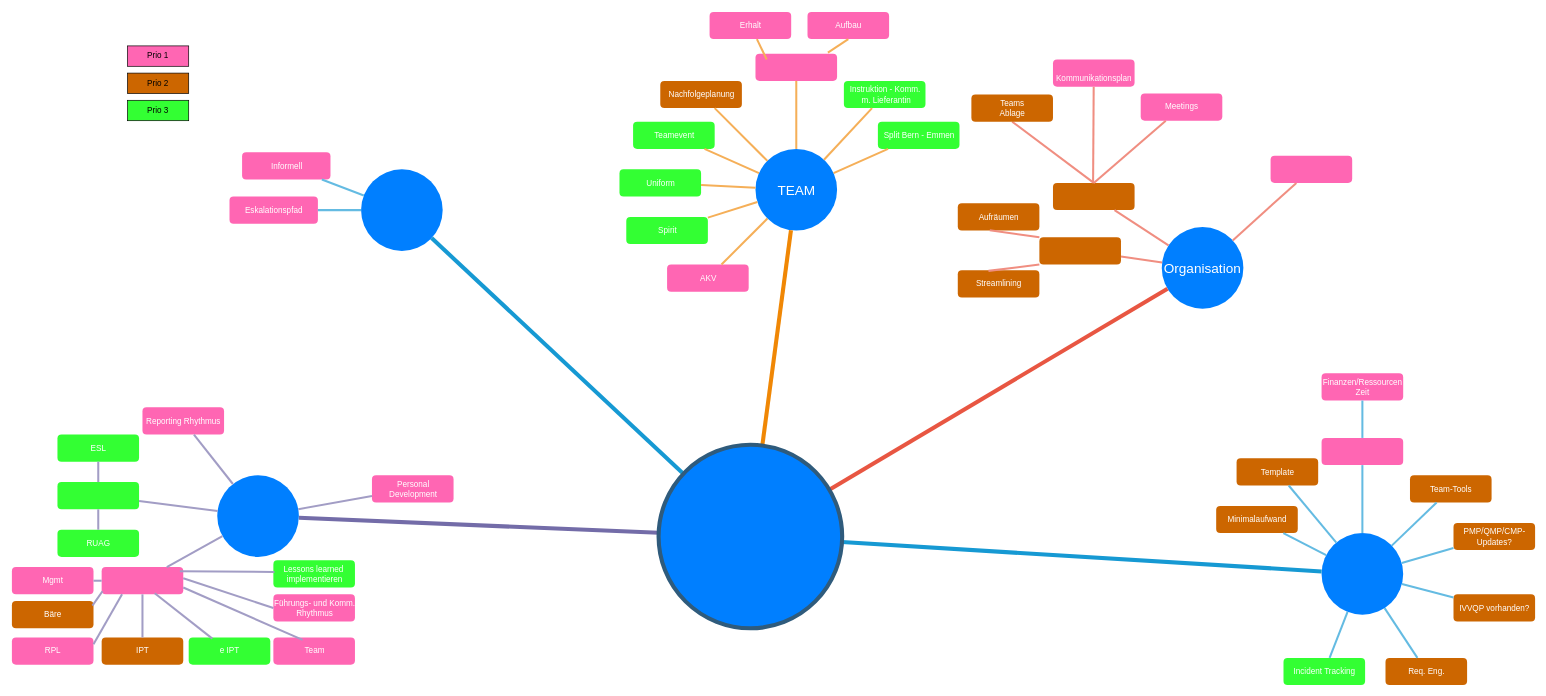
Some shapes in this 1546 by 696 pixel diagram are drawn without their labels. Here are the shapes that lost their labels. From the top down, the centre of each, then its label:
At [796,67]: "Know-How".
At [1311,169]: "Projekt Organisation".
At [401,210]: "Kommun- ikation".
At [1093,196]: "Übersicht".
At [1080,250]: "Ablage".
At [1362,451]: "PL-Tools".
At [98,495]: "Lieferanten".
At [258,516]: "Stakeholder Mgmt".
At [750,536]: "ADS 15 Support".
At [142,580]: "armasuisse".
At [1362,573]: "Tools".
